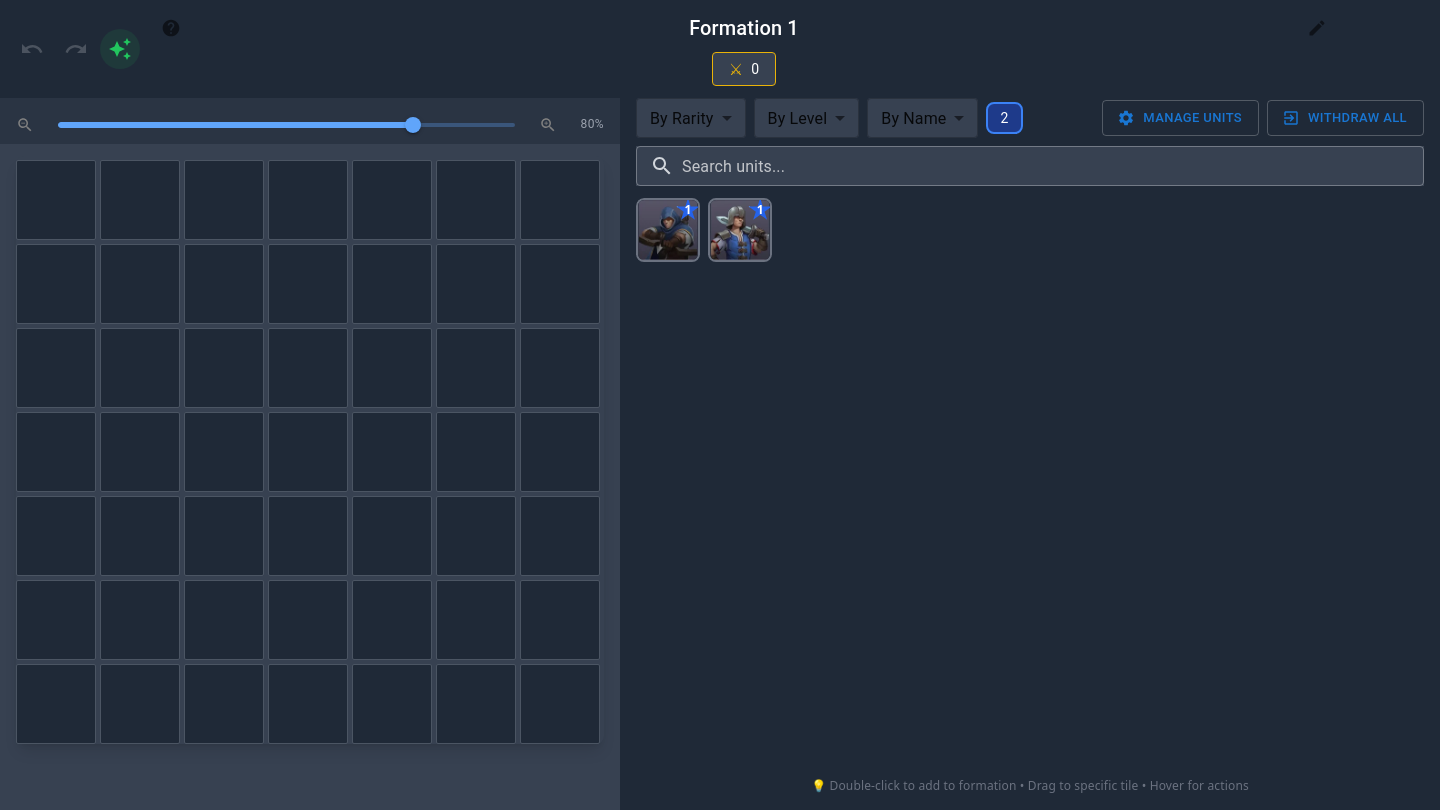
FormationPlanner Integration Tests › Search and Filter › should filter available units by search term
Type "arch" into the field with placeholder "Search units...". click: (1053, 166)
box: [682,146,1424,186]
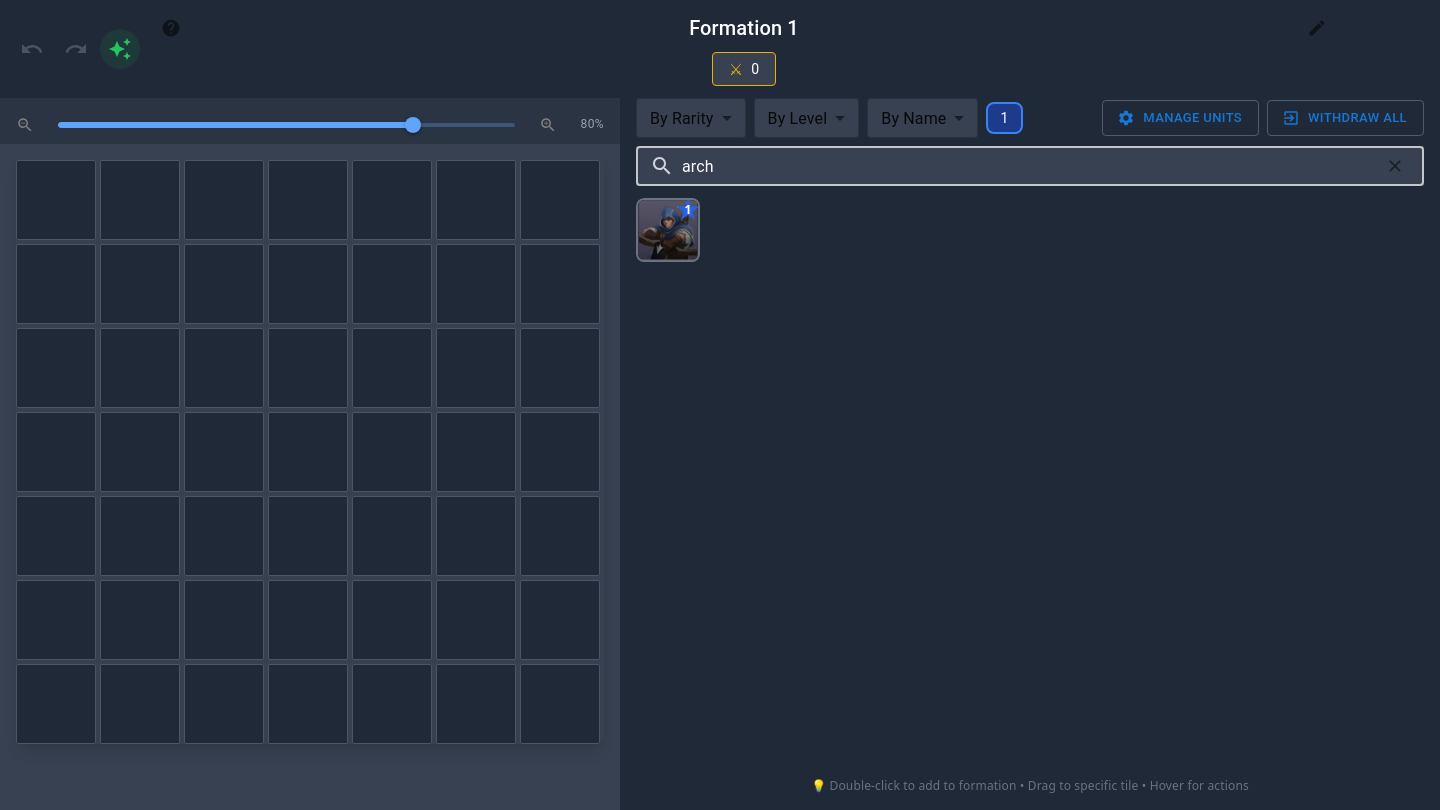
Check: the button named "1 Archers" is shown, box [636,198,700,262]
Check: the picture labelled "1 Infantry" is gone
